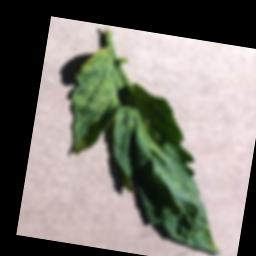Leaf_Mold: (81, 43, 112, 76)
